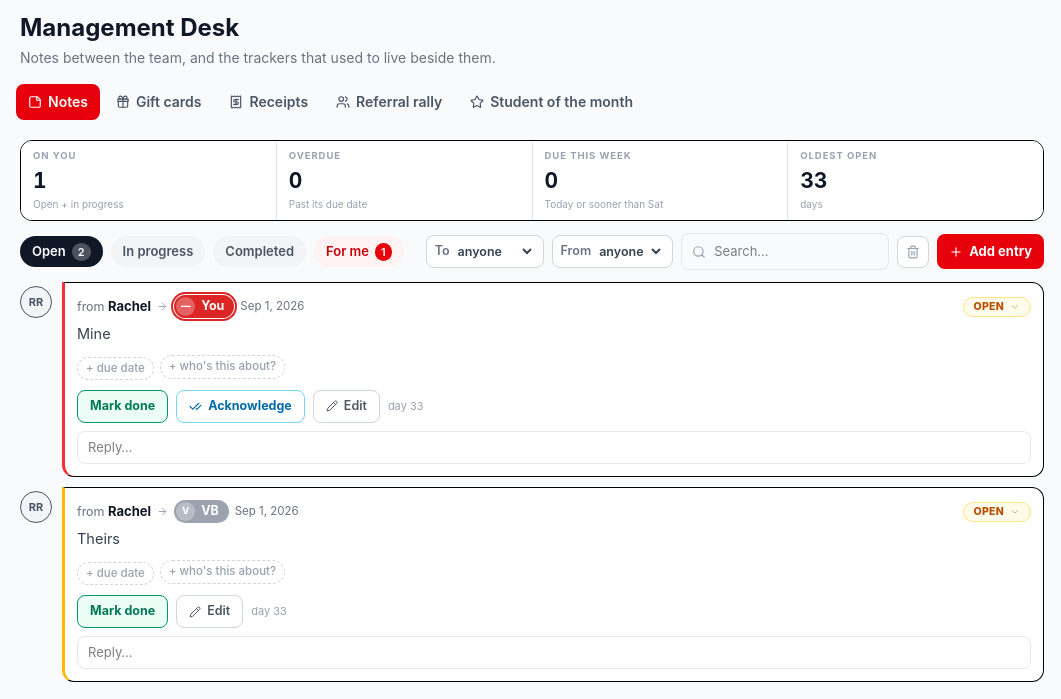
the chain › filters to what is waiting on ME
Step 1. Click the button "For me1" → [359, 252], box top-left (314, 236), bottom-right (404, 267)
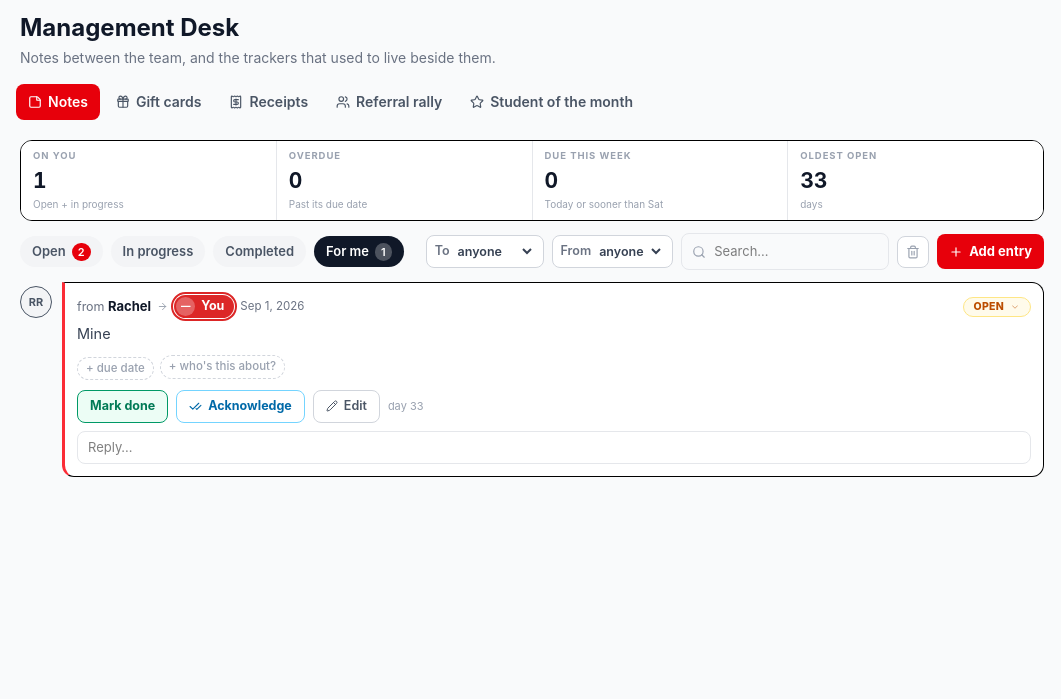
Expected: the text "Mine" is shown, top-left (77, 325), bottom-right (111, 342)
Result: the text "Theirs" is gone
